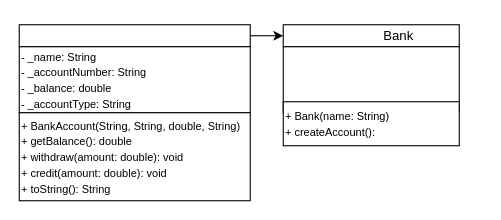
Some shapes in this 501 by 220 pixel diagram are drawn without their labels. Here are the shapes that lost their labels. From the top down, the box of each, then its label:
(18, 24, 250, 47): BankAccount
(282, 46, 459, 113): - _name: String - _accounts: List<BankAccount>
